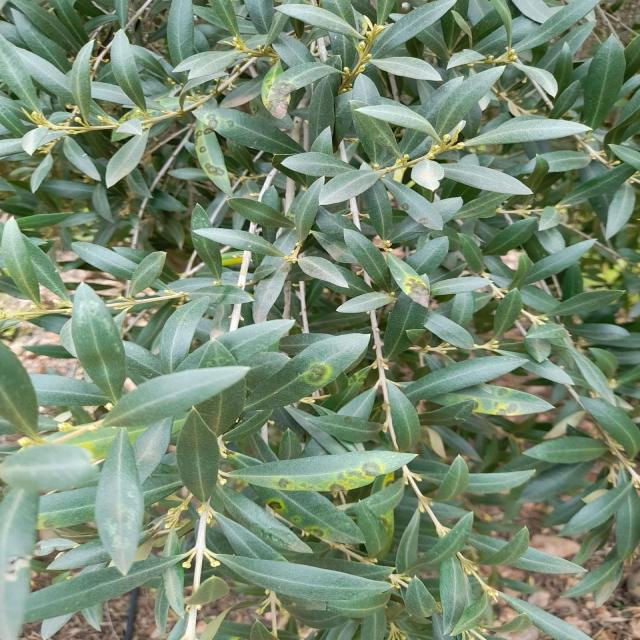Healthy: (105, 366, 250, 426), (403, 353, 528, 400), (582, 37, 624, 130), (465, 118, 592, 147), (354, 105, 441, 142), (111, 30, 147, 112), (319, 170, 381, 206)
Peacock Eye: (243, 334, 369, 412), (227, 450, 417, 491), (252, 486, 366, 544), (192, 108, 303, 155), (431, 384, 553, 416), (382, 179, 447, 230), (195, 124, 233, 196), (268, 64, 341, 101), (386, 252, 430, 308)
